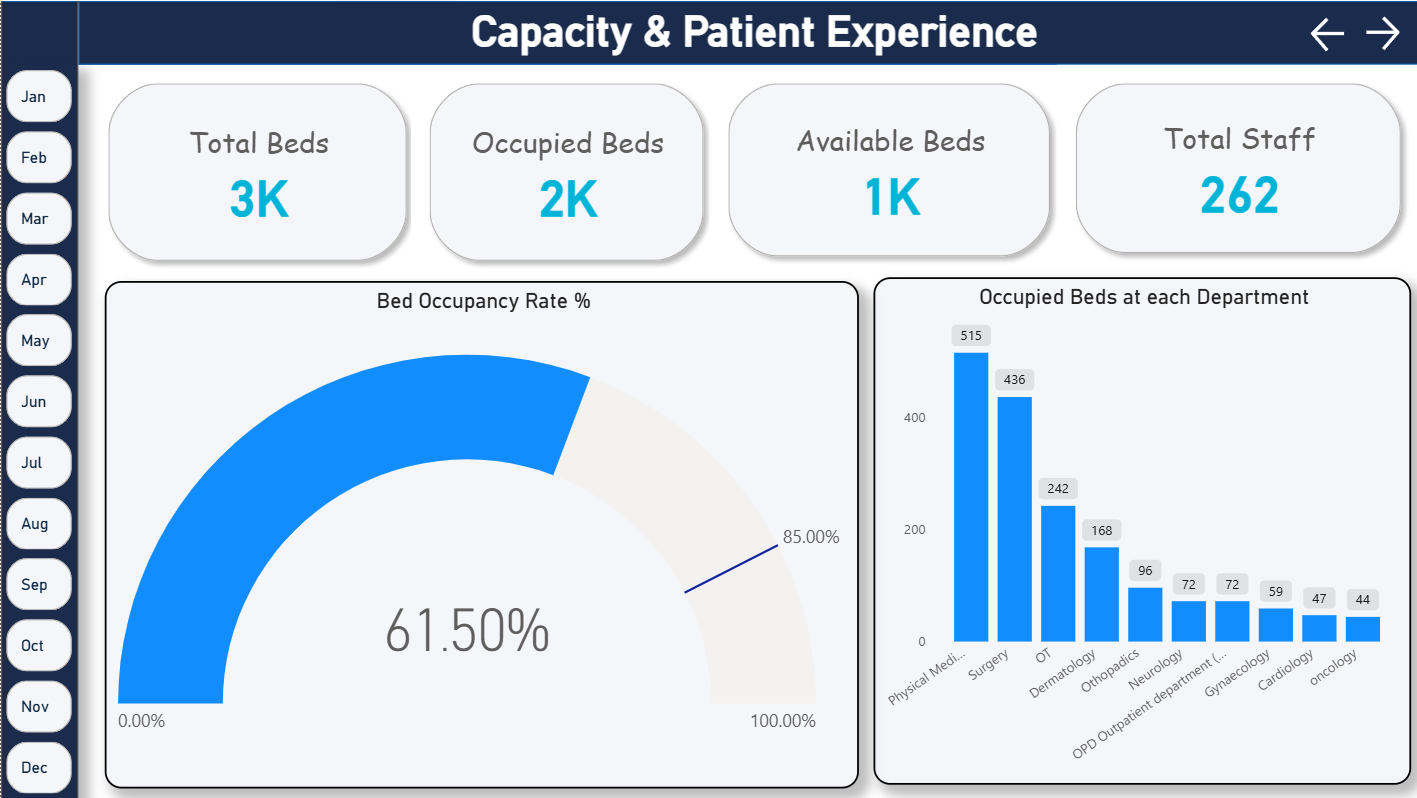

The dashboard page shown, as its layout file describes it:
{"tool":"powerbi","page":{"name":"Capacity","canvas":[1280,720],"ordinal":3},"visuals":[{"type":"cardVisual","fields":{"Data":["Dax.Total Beds"]},"box":[79.5,57.5,303.3,194.4],"z":0},{"type":"cardVisual","fields":{"Data":["Dax.Occupied Beds"]},"box":[369.3,57.5,281.3,194.4],"z":1000},{"type":"cardVisual","fields":{"Data":["Dax.Available Beds"]},"box":[639.5,57.5,324.1,190.8],"z":2000},{"type":"shape","box":[69.7,0,1210.6,57.5],"z":3000},{"type":"textbox","box":[368.1,0,622.4,57.5],"z":4000},{"type":"cardVisual","fields":{"Data":["Dax.Total Staff"]},"box":[952.6,57.5,327.7,187.1],"z":5000},{"type":"clusteredColumnChart","title":"Occupied Beds at each Department","fields":{"Category":["Dep.Department_Name"],"Y":["Dax.Occupied Beds"]},"box":[786.2,248.8,485,457.5],"z":6000},{"type":"gauge","fields":{"Y":["Dax.Bed Occupancy Rate %"]},"box":[93.8,252.5,680,457.5],"z":7000},{"type":"shape","box":[0,0,69.7,721.5],"z":8000},{"type":"advancedSlicerVisual","fields":{"Values":["Calendar.Month_Name"]},"box":[0,57.2,69.7,662.8],"z":9000},{"type":"actionButton","box":[1225.3,8.6,46.5,40.4],"z":10000},{"type":"actionButton","box":[1176.4,9.8,48.9,40.4],"z":11000}]}

Visuals, with their boxes in screenshot pixels (x1, y1, x2, y2), scaled from the page's 1280x720 canvas onto the 1417x798 screenshot:
cardVisual - Dax.Total Beds: box(88, 64, 424, 279)
cardVisual - Dax.Occupied Beds: box(409, 64, 720, 279)
cardVisual - Dax.Available Beds: box(708, 64, 1067, 275)
shape: box(77, 0, 1416, 64)
textbox: box(407, 0, 1097, 64)
cardVisual - Dax.Total Staff: box(1055, 64, 1416, 271)
"Occupied Beds at each Department" clusteredColumnChart: box(870, 276, 1407, 783)
gauge - Dax.Bed Occupancy Rate %: box(104, 280, 857, 787)
shape: box(0, 0, 77, 797)
advancedSlicerVisual - Calendar.Month_Name: box(0, 63, 77, 797)
actionButton: box(1356, 10, 1408, 54)
actionButton: box(1302, 11, 1356, 56)
